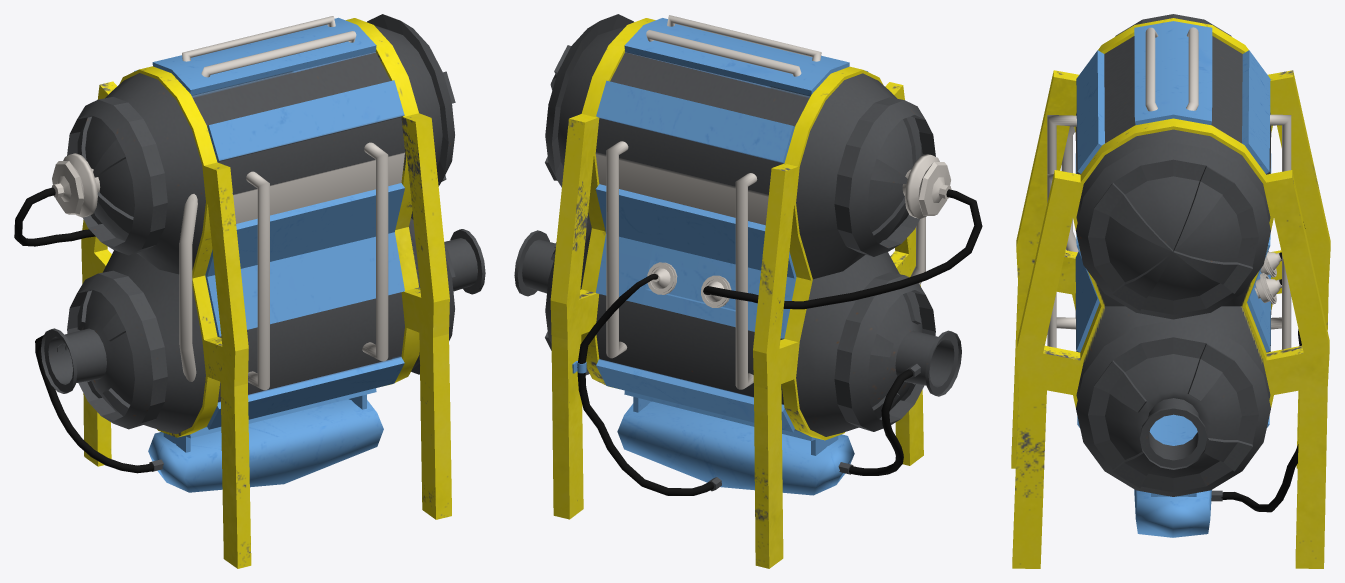
File: TankD.fbx
3 views of the same model, side by side, from view 1: azimuth 30°, elevation 25°; view 2: azimuth 150°, elevation 25°; view 3: azimuth 270°, elevation 25° (orthographic). The views are drawn at different scales.
Parts seen in each view (by area): view 1: TankD; view 2: TankD; view 3: TankD.
Boxes of the visible parts, x1=… form: TankD: x1=14, y1=14, x2=485, y2=568; TankD: x1=514, y1=14, x2=982, y2=568; TankD: x1=1011, y1=14, x2=1330, y2=568.
Size of the model in its own units: 3.36 by 3.16 by 2.02.
